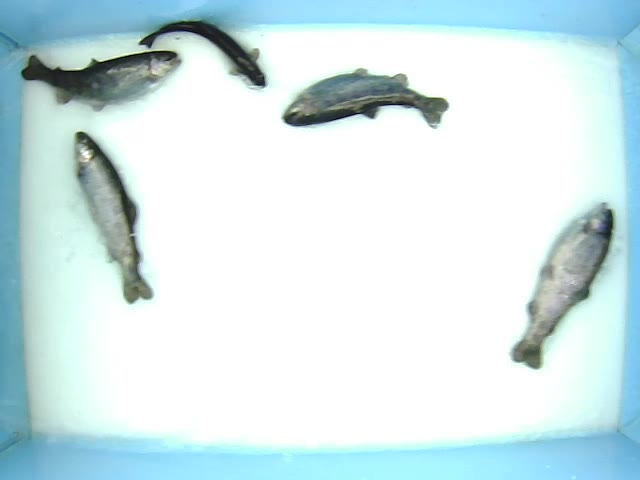fish: (499, 198, 623, 390), (51, 135, 150, 303), (8, 34, 188, 115), (271, 74, 477, 141), (143, 11, 272, 92)
